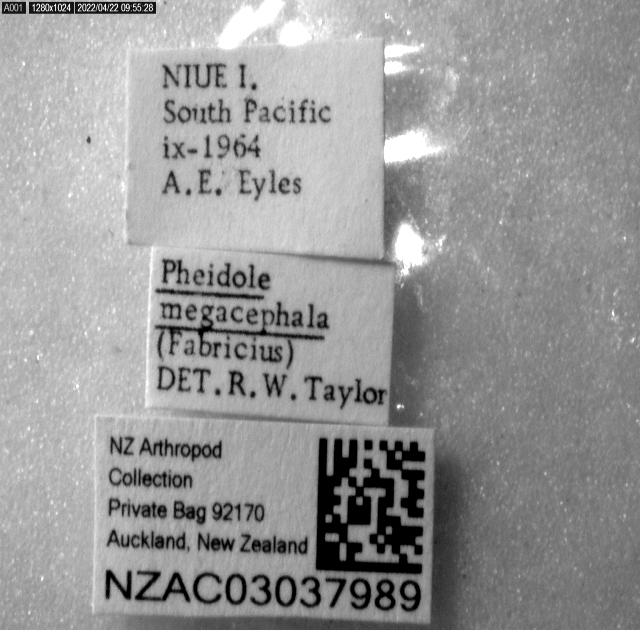typed_label: (94, 417, 434, 623), (126, 39, 384, 259), (146, 247, 395, 425)
